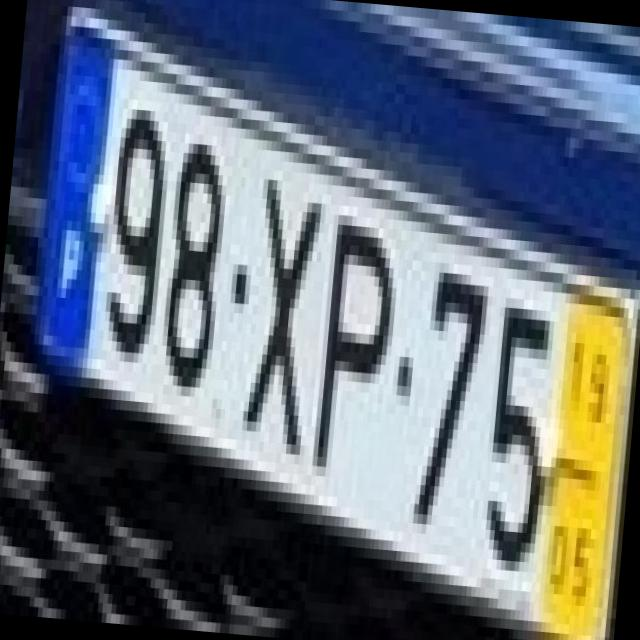5: (466, 276, 562, 553)
7: (394, 242, 492, 528)
8: (141, 112, 237, 379)
9: (78, 78, 175, 364)
P: (298, 194, 404, 472)
X: (222, 148, 330, 445)
